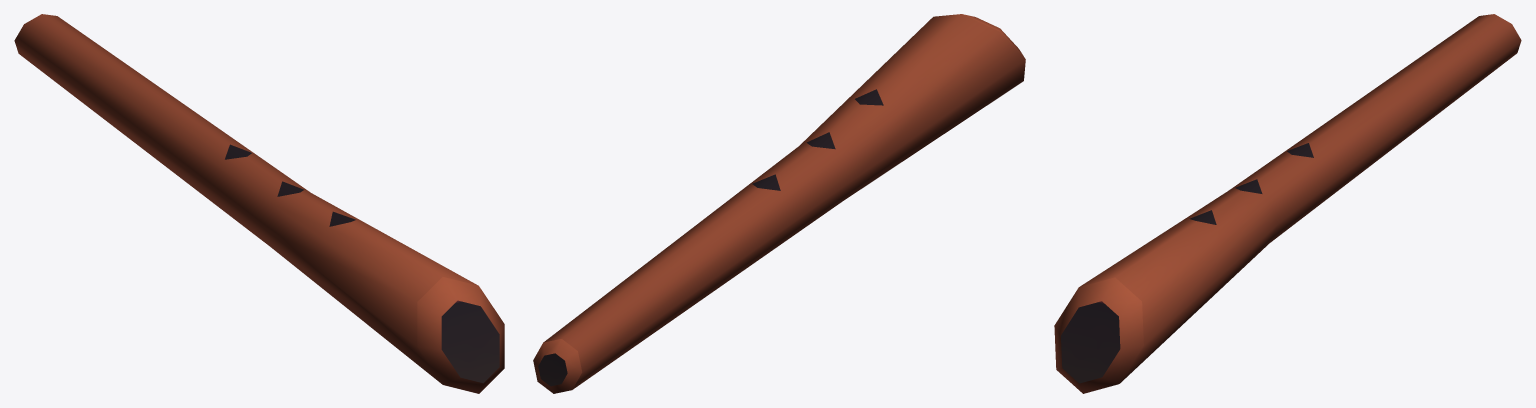
File: Flute_1A.fbx
3 renders of one model, left to right at view 1: azimuth 30°, elevation 25°; view 2: azimuth 150°, elevation 25°; view 3: azimuth 330°, elevation 25°, orthographic. The views are drawn at different scales.
Parts seen in each view (by area): view 1: Flute_1A; view 2: Flute_1A; view 3: Flute_1A.
Boxes of the visible parts, left/top/right/bottom form: Flute_1A: left=14, top=14, right=504, bottom=393; Flute_1A: left=533, top=14, right=1025, bottom=393; Flute_1A: left=1054, top=14, right=1521, bottom=393.
Size of the model in its own units: 6.09 by 6.06 by 52.41.
